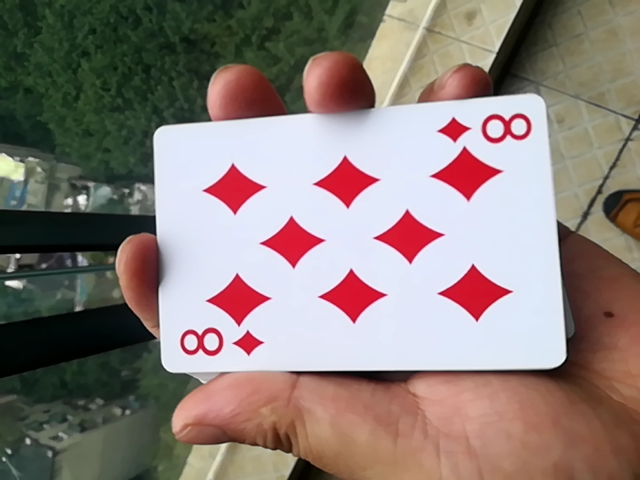fk 8: (137, 100, 570, 391)
